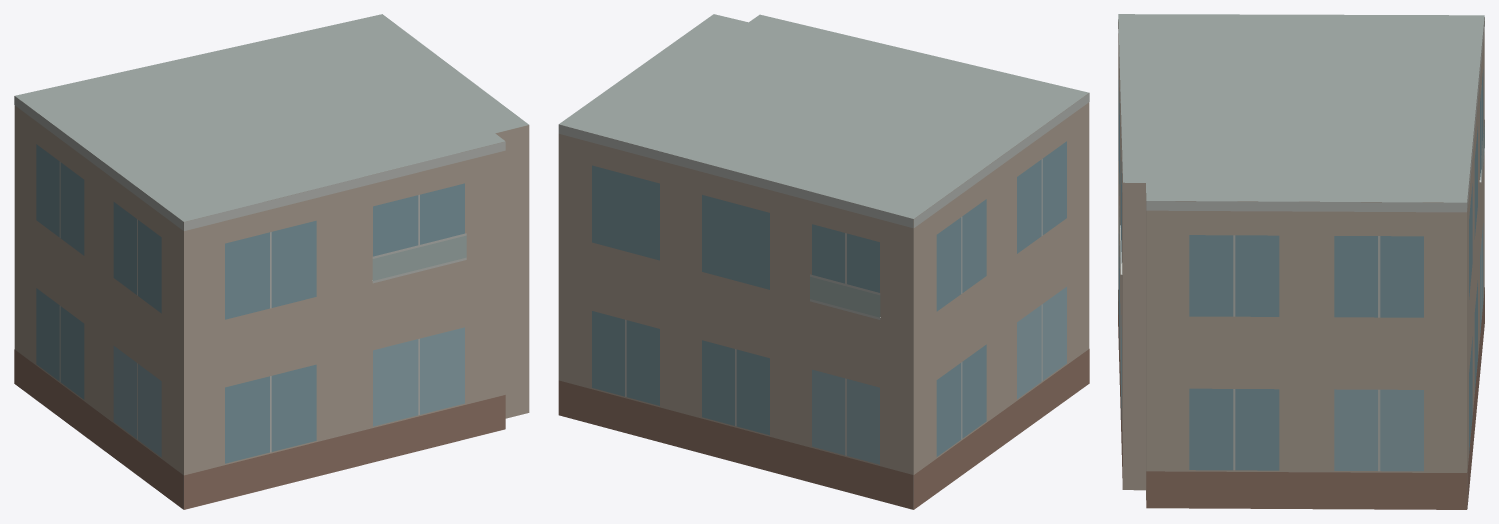
Rendered from survey-upis-32607240.glb.
3 views of the same model, side by side, from view 1: azimuth 30°, elevation 25°; view 2: azimuth 150°, elevation 25°; view 3: azimuth 270°, elevation 25° (orthographic). The views are drawn at different scales.
Parts seen in each view (by area): view 1: survey-upis-32607240.tmp; view 2: survey-upis-32607240.tmp; view 3: survey-upis-32607240.tmp.
Part boxes in pixels (x1=…): survey-upis-32607240.tmp: x1=14, y1=14, x2=529, y2=509; survey-upis-32607240.tmp: x1=558, y1=14, x2=1089, y2=509; survey-upis-32607240.tmp: x1=1118, y1=14, x2=1484, y2=509.
Size of the model in its own units: 10.01 by 7.6 by 8.23.
